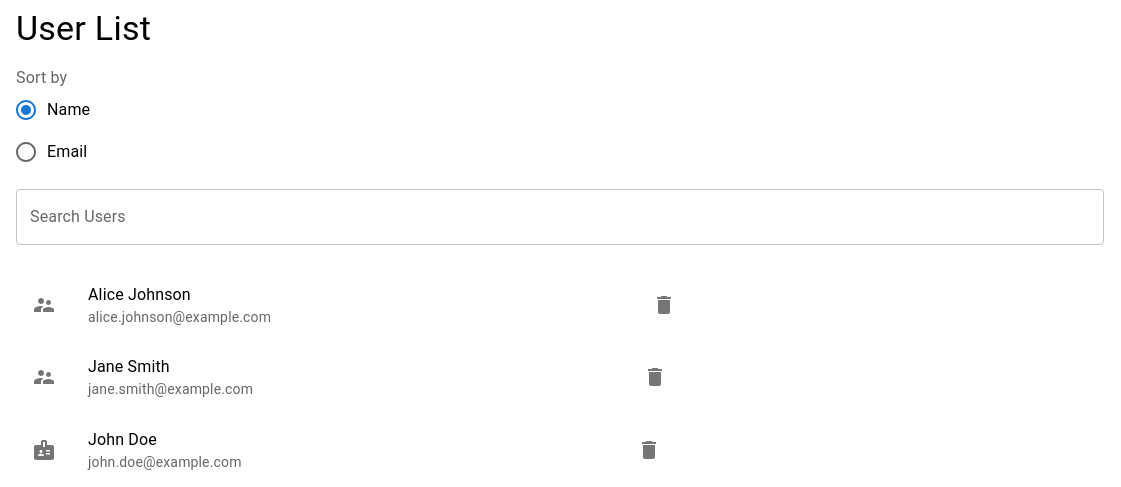
Scenario: UserEmployeeListLeicht Component › should filter users based on search term
The image size is (1121, 487).
Type "Jane" into the field labelled "Search Users" at (560, 218), box [16,190,1104,246]
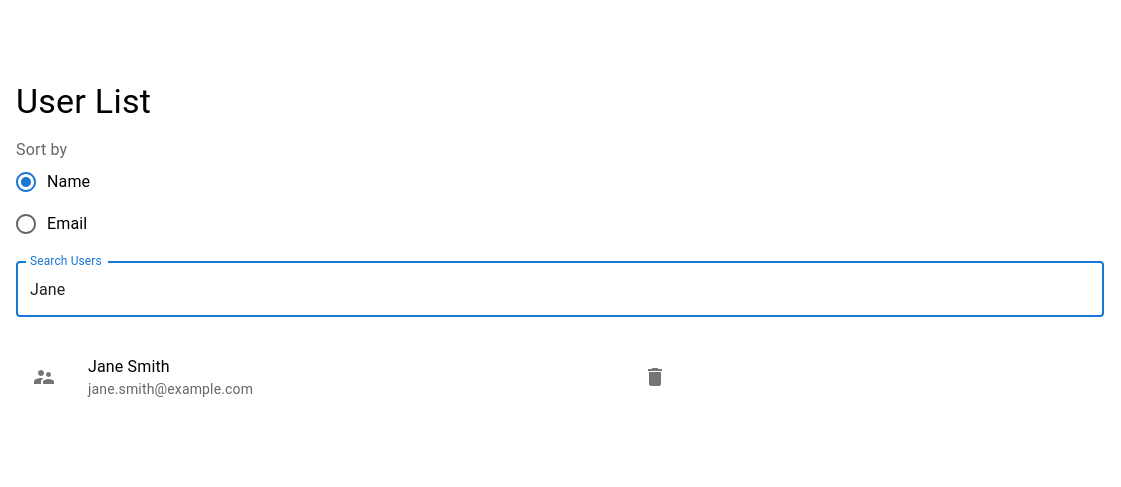
Check: the list item labelled "Jane Smith" is shown, box [32,358,667,398]
Check: the text labelled "John Doe" is gone
Check: the text labelled "Alice Johnson" is gone
